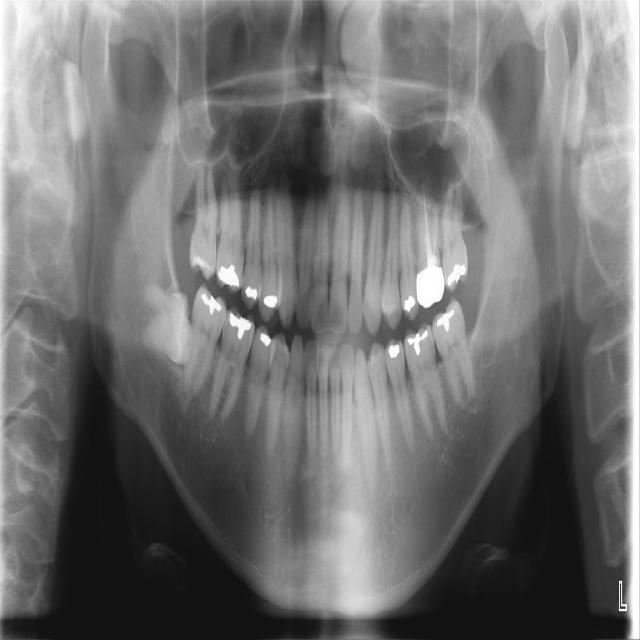Crown: (416, 265, 445, 308)
Filling: (405, 325, 433, 355), (200, 287, 224, 315), (227, 311, 251, 339), (434, 307, 459, 331), (217, 264, 240, 287), (446, 264, 467, 288), (188, 256, 213, 276), (256, 330, 273, 347), (242, 286, 259, 302), (387, 343, 401, 361), (264, 294, 278, 308), (401, 296, 414, 311)
Root Canal Treatment: (422, 182, 438, 251), (432, 202, 438, 242)
impacted tooth: (137, 280, 187, 361)
